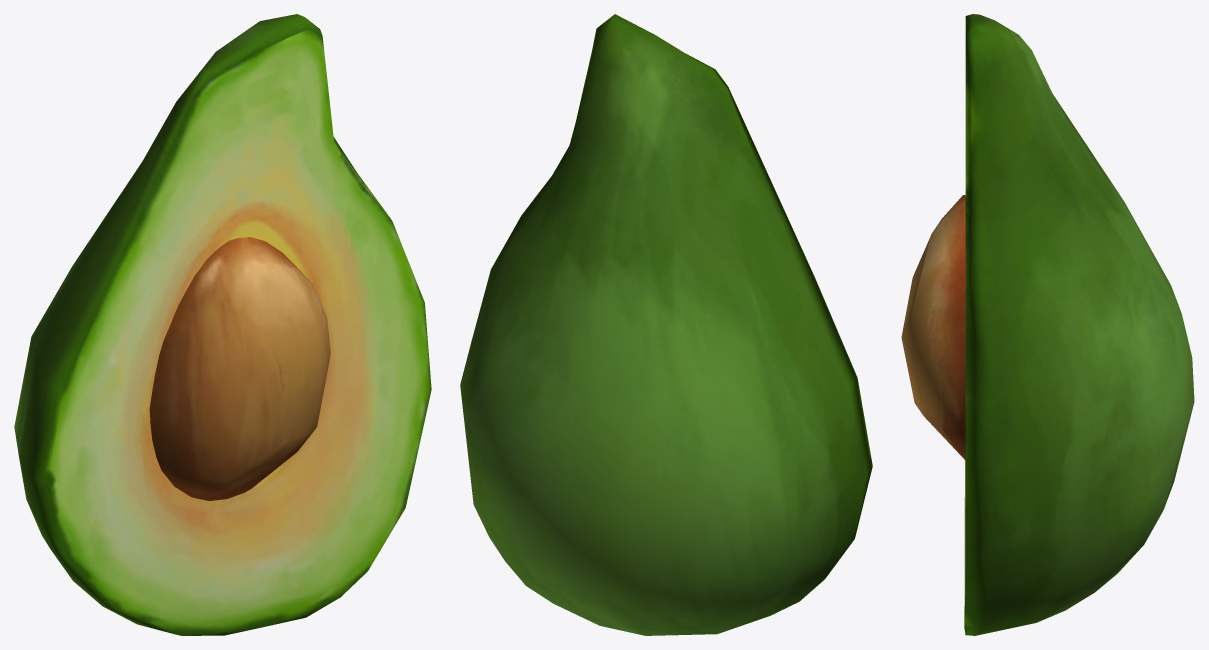
3 views of the same model, side by side, from view 1: azimuth 30°, elevation 25°; view 2: azimuth 150°, elevation 25°; view 3: azimuth 270°, elevation 25° (orthographic). The views are drawn at different scales.
Visible parts, largest first — view 1: Avocado; view 2: Avocado; view 3: Avocado.
Boxes of the visible parts, <box> form: Avocado: <box>14,14,431,635</box>; Avocado: <box>460,14,872,635</box>; Avocado: <box>901,14,1194,635</box>.
Bounding box in the file's own units: 0.0425 × 0.0629 × 0.0276.
Materials: 1 (1 with a texture image).
